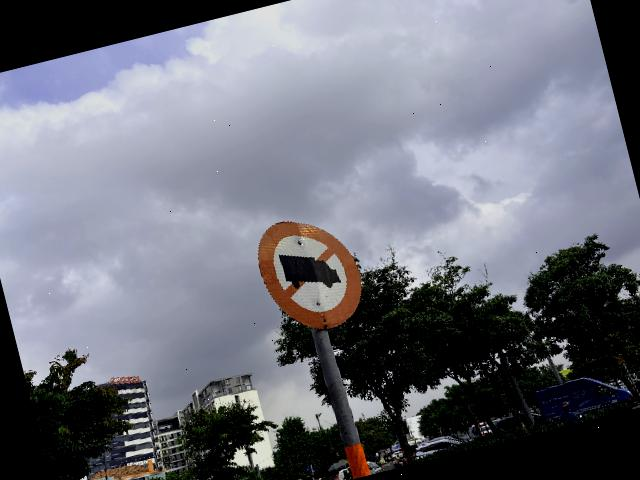cam-xe-tai: (250, 206, 370, 340)
